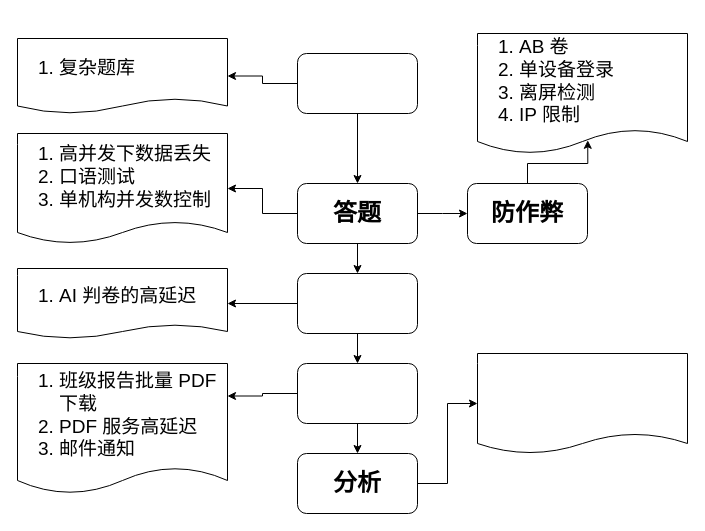
This 705x531 diagram has some shape labels left out. The shapes that lost their labels are listed below. From the top down, each one's box as (x1, y1, x2, y2) in pixels, then its label:
(296, 52, 418, 114): 组卷
(296, 272, 418, 334): 判卷
(296, 362, 418, 424): 报告
(476, 352, 688, 454): 答题轨迹及混淆分析
